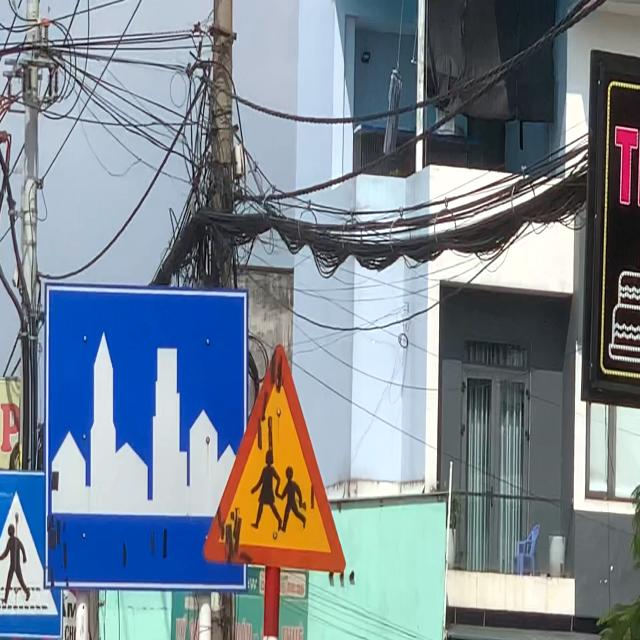W.225: (196, 335, 350, 586)
